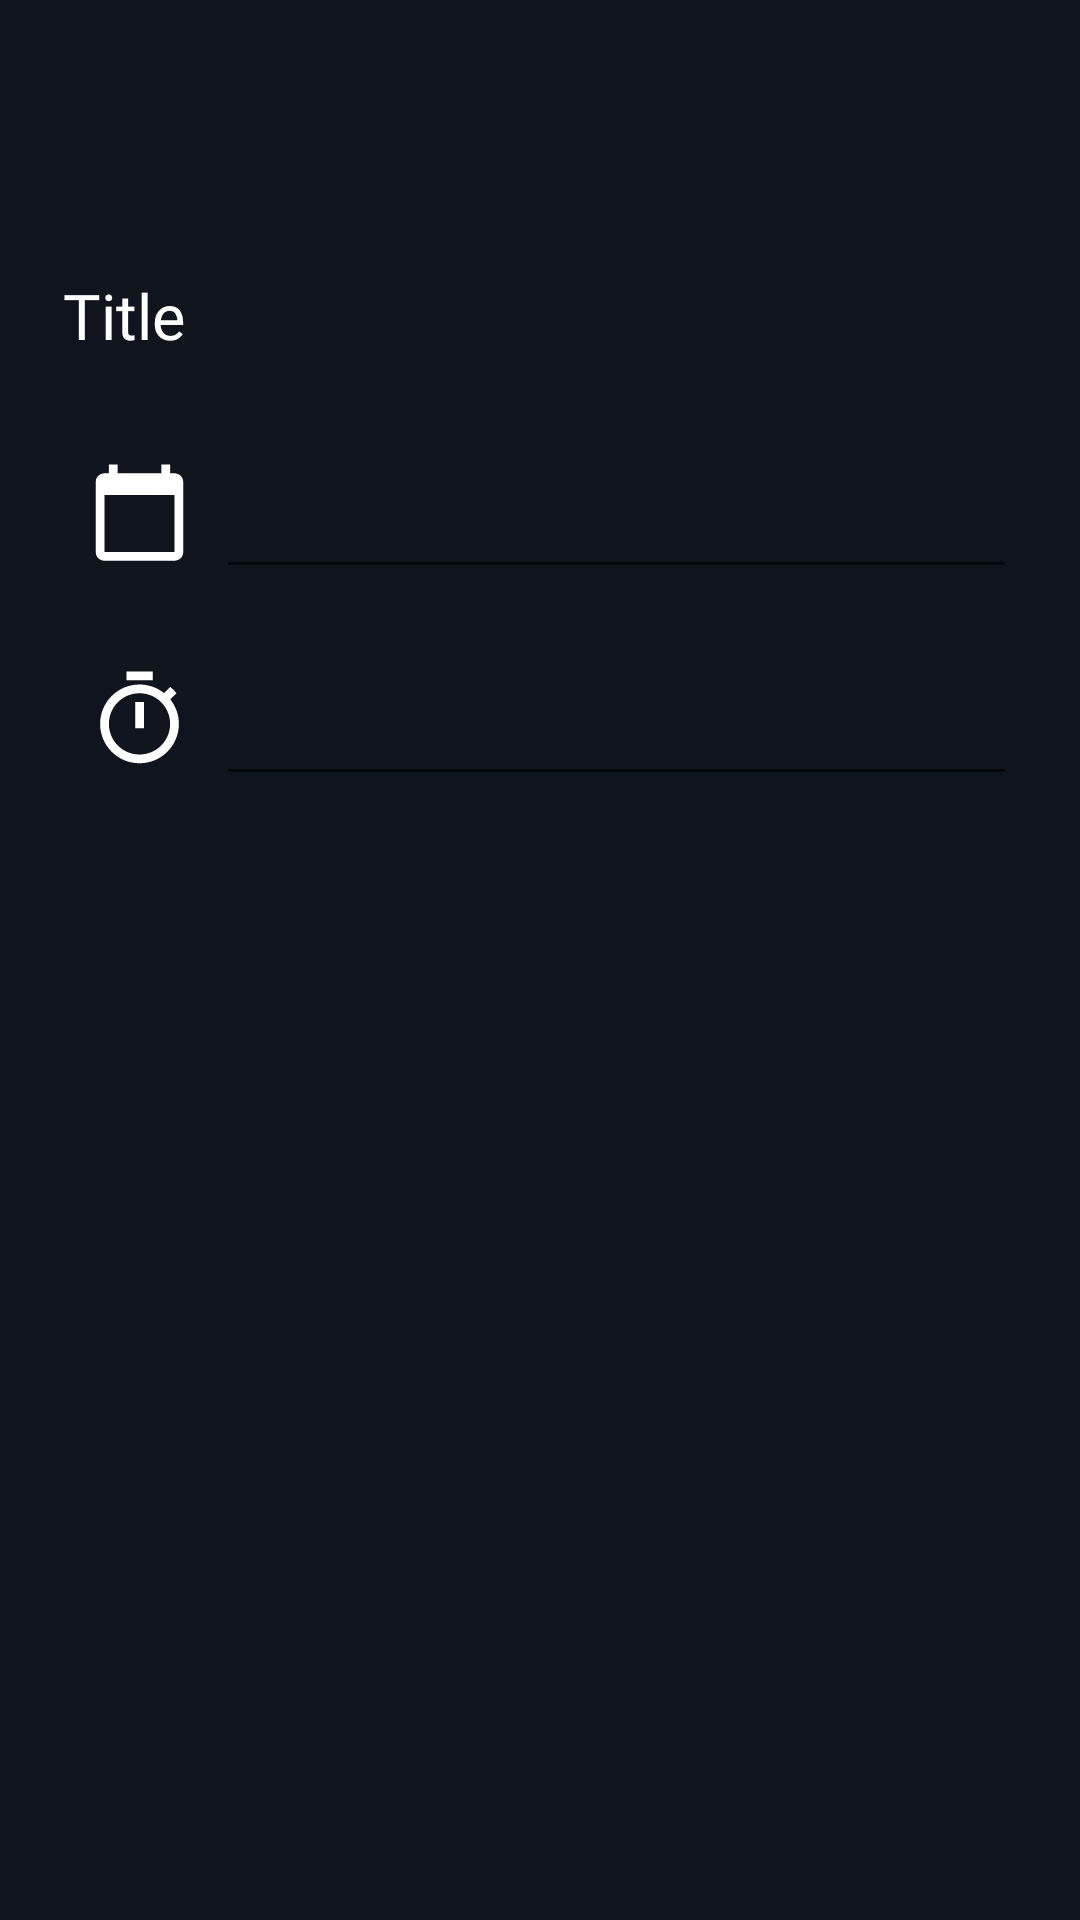

Where icons sit on this 1080px×1920px app screen, as box(x1, y1, x2, y2):
calendar today: box(95, 464, 184, 561)
timer: box(100, 671, 179, 764)
